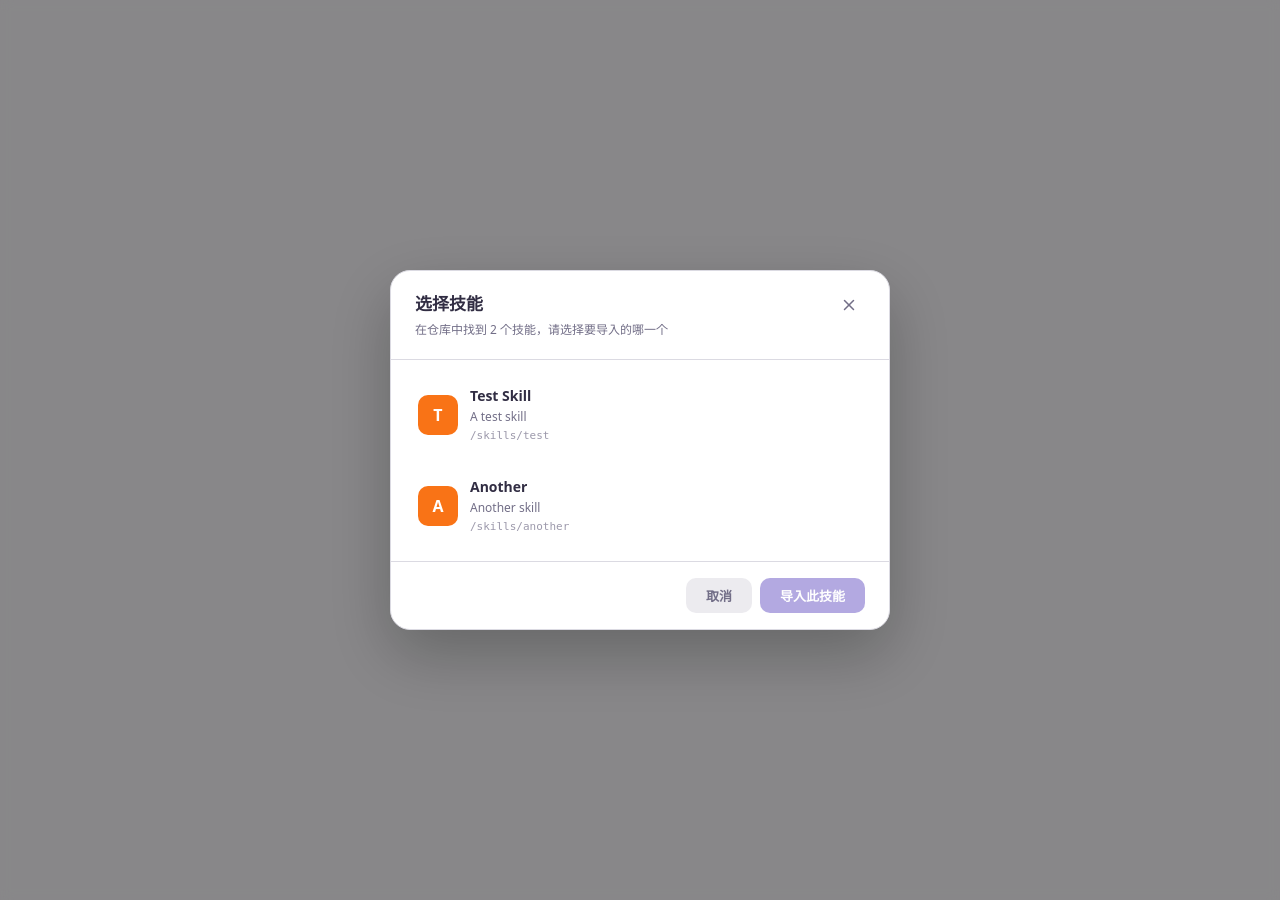
Test case: SkillPickModal › clicking a skill enables confirm button
What coordinates should you click on to do the following:
click the element showing "T Test Skill A test skill /skills/test"
I would click on:
 (484, 414)
Its box is x1=418 y1=386 x2=550 y2=442.
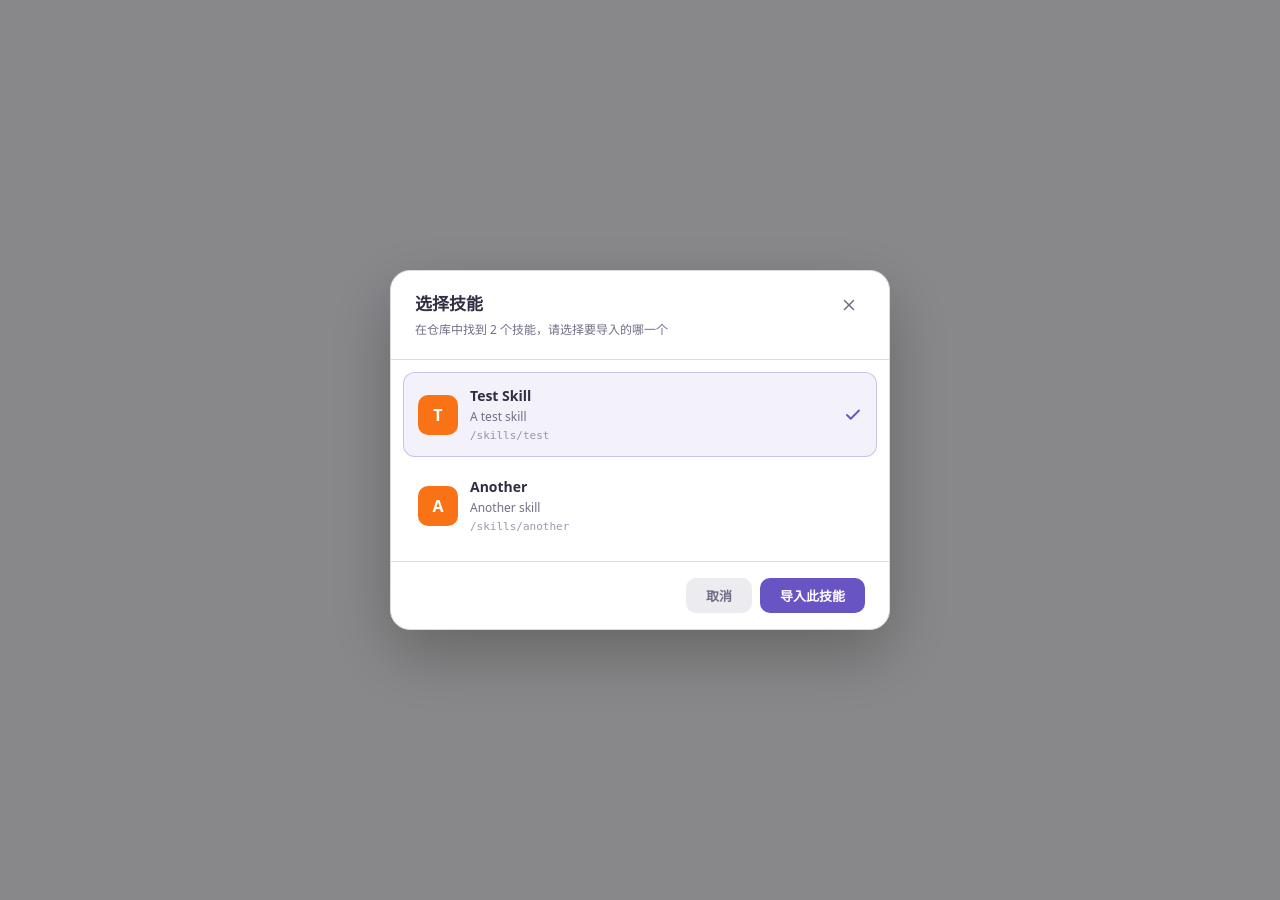
Expected: the button with class "confirm" is enabled, x1=760 y1=578 x2=865 y2=613
